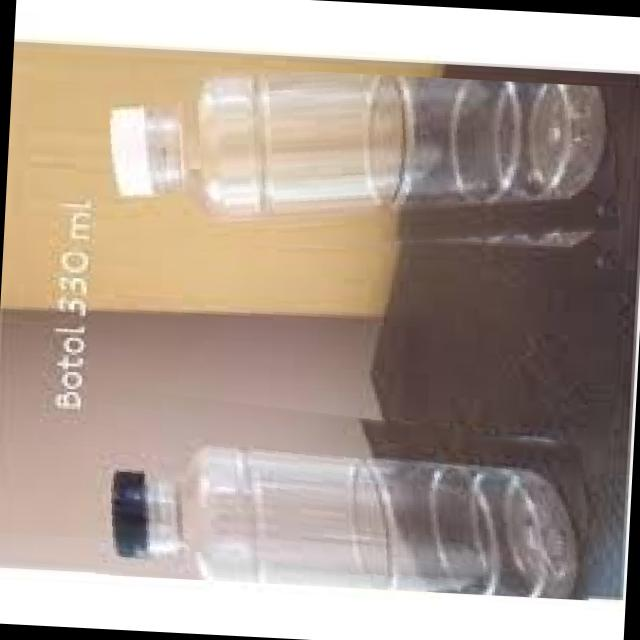plastic bottle: (102, 60, 627, 282), (89, 382, 602, 600)
